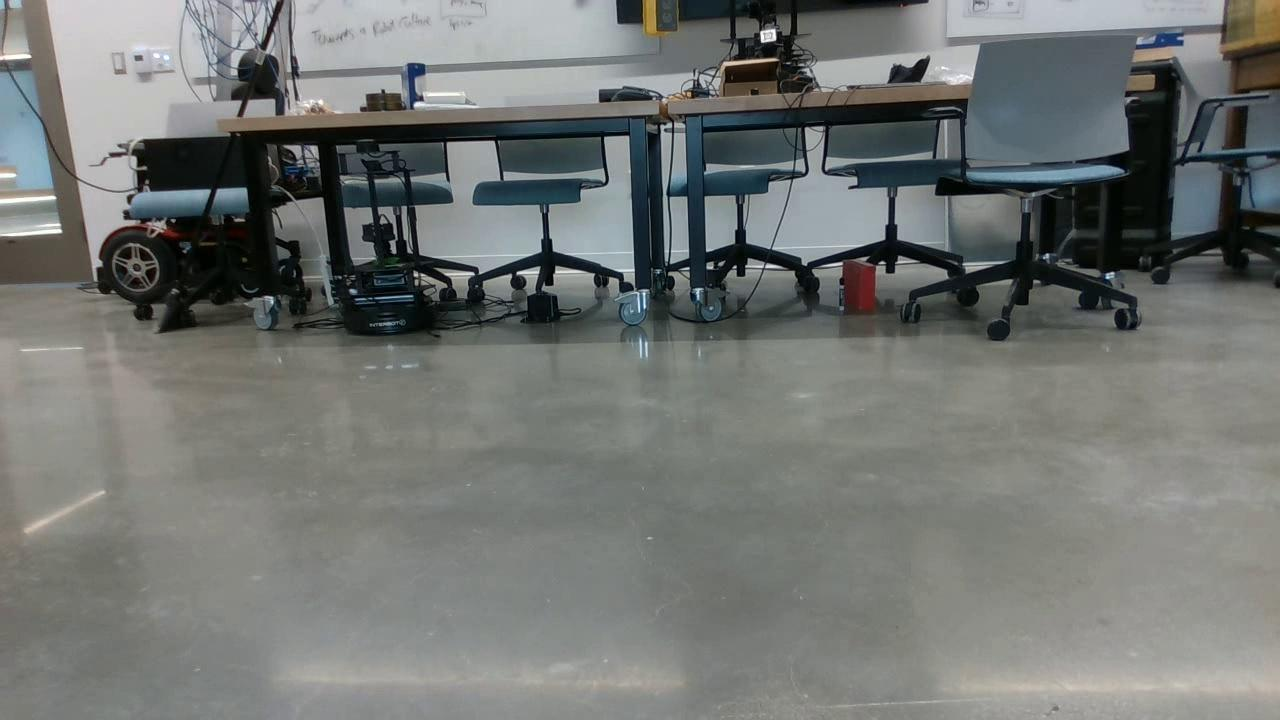grasshopper: (374, 257, 399, 265)
